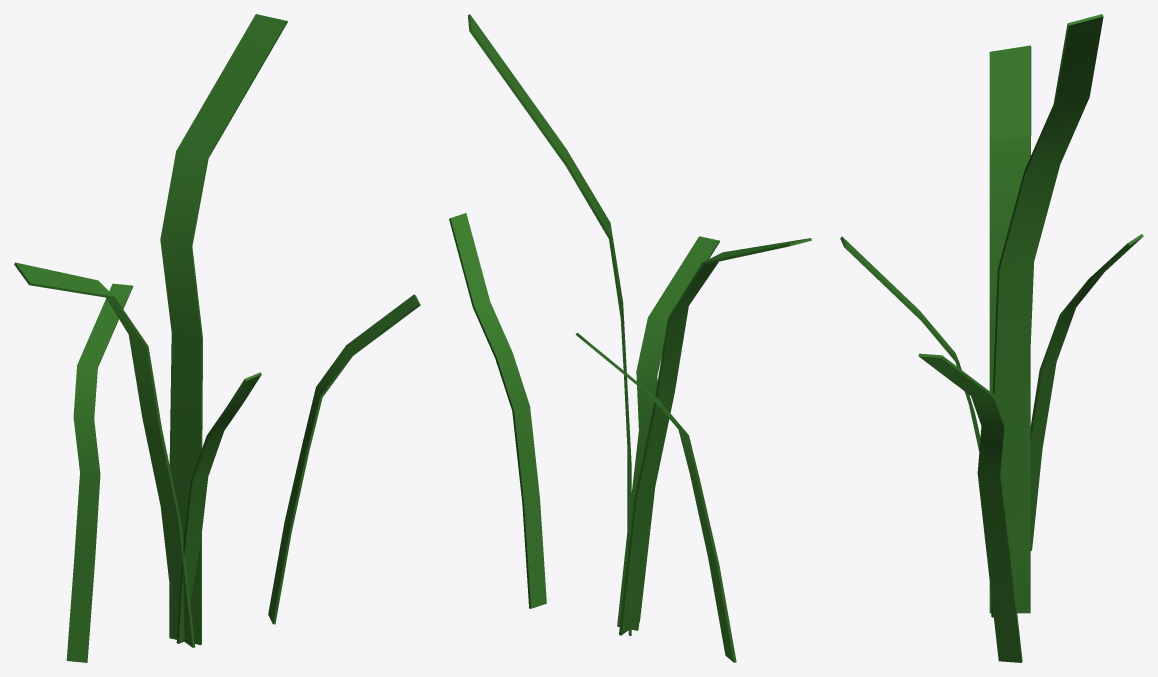
The model's file is Grass3.fbx.
3 renders of one model, left to right at view 1: azimuth 30°, elevation 25°; view 2: azimuth 150°, elevation 25°; view 3: azimuth 270°, elevation 25°, orthographic. The views are drawn at different scales.
Visible parts, largest first — view 1: Plane.005; view 2: Plane.005; view 3: Plane.005.
Boxes of the visible parts, left/top/right/bottom form: Plane.005: left=14, top=14, right=420, bottom=662; Plane.005: left=449, top=14, right=811, bottom=662; Plane.005: left=840, top=14, right=1143, bottom=662.
Size of the model in its own units: 95.16 by 142 by 59.11.
